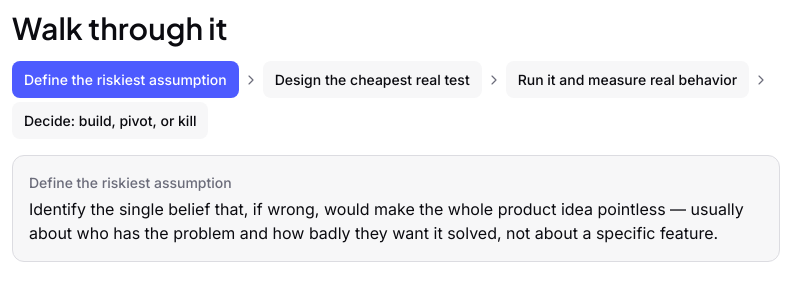
it: KnowledgeWalkthrough › shows another step's description on click and tracks the selection
This screenshot has width=797, height=303.
Step 1. Click the button "Design the cheapest real test" → (372, 80), box [263,61,482,98]
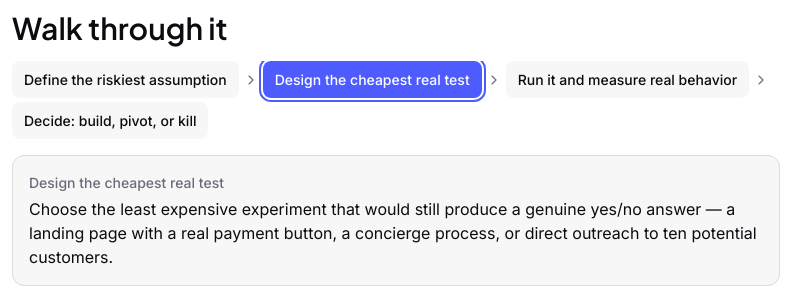
Check: the text "Choose the least expensive experiment that would still produce a genuine yes/no answer — a landing page with a real paym" is shown, box [29,199,757,267]
